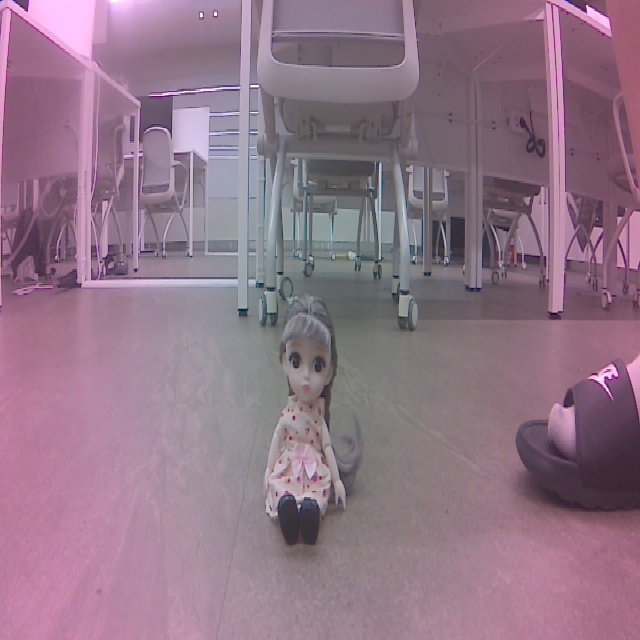장애물: (256, 296, 373, 541)
